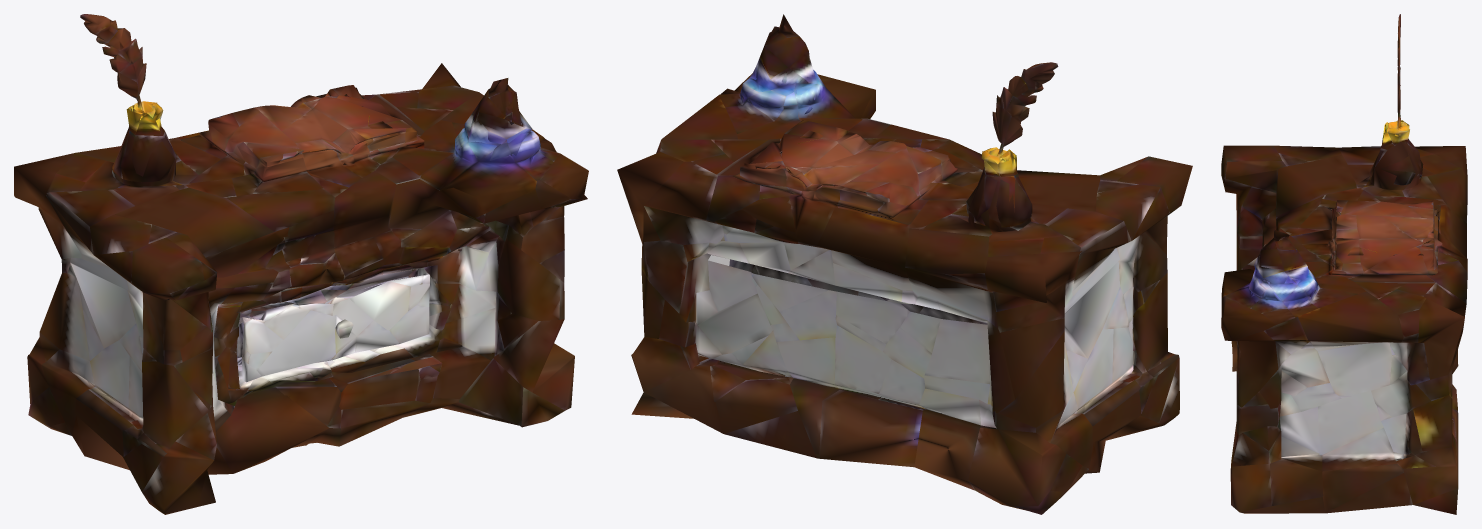
File: reception-desk.glb
The picture shows the model from 3 angles, left to right: view 1: azimuth 30°, elevation 25°; view 2: azimuth 150°, elevation 25°; view 3: azimuth 270°, elevation 25°; orthographic projection. The views are drawn at different scales.
Parts seen in each view (by area): view 1: Mesh_0; view 2: Mesh_0; view 3: Mesh_0.
Boxes of the visible parts, bbox=[...] form: Mesh_0: bbox=[14, 14, 588, 514]; Mesh_0: bbox=[617, 14, 1192, 514]; Mesh_0: bbox=[1221, 14, 1467, 514].
Size of the model in its own units: 1.29 by 1.2 by 0.7739.
Materials: 1 (1 with a texture image).
